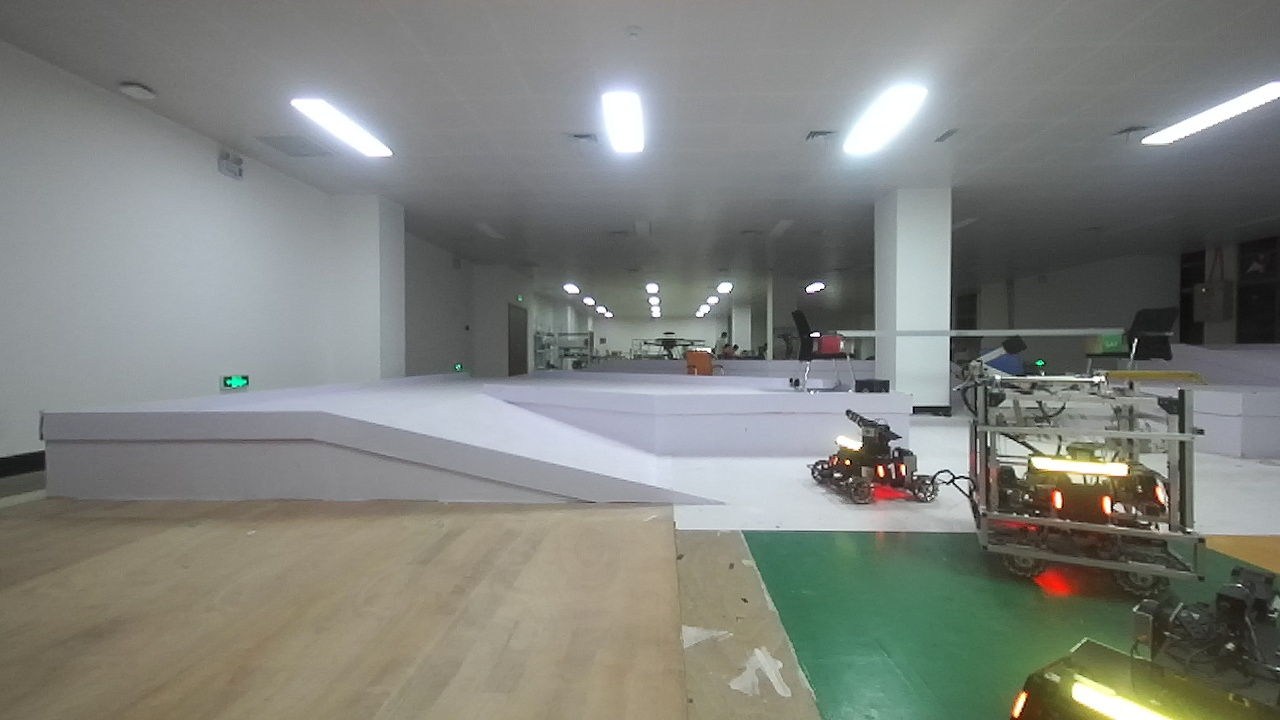car: (943, 352, 1209, 596), (1003, 571, 1280, 720), (809, 398, 936, 524)
